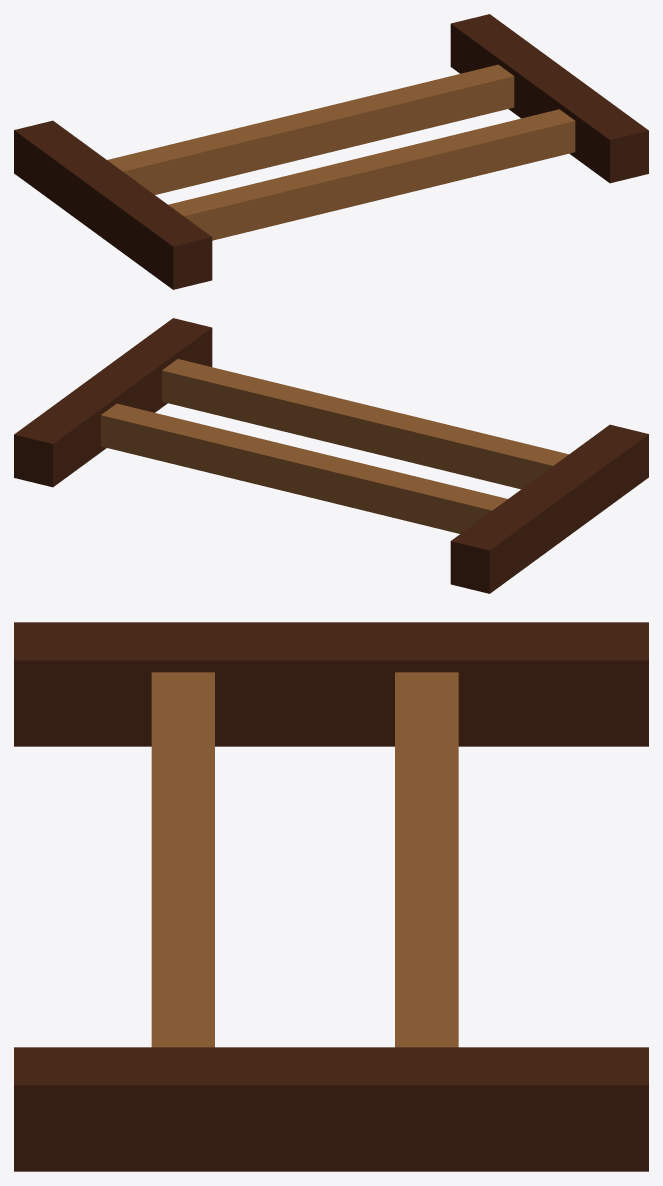
File: SM_RuralFence.obj
3 renders of one model, top to bottom at view 1: azimuth 30°, elevation 25°; view 2: azimuth 150°, elevation 25°; view 3: azimuth 270°, elevation 25°, orthographic. The views are drawn at different scales.
Parts seen in each view (by area): view 1: SM_RuralFence; view 2: SM_RuralFence; view 3: SM_RuralFence.
Part boxes in pixels (x1,y1,x2,y2): SM_RuralFence: [14, 14, 648, 289]; SM_RuralFence: [14, 318, 648, 593]; SM_RuralFence: [14, 622, 648, 1171].
Size of the model in its own units: 207 by 18 by 120.
